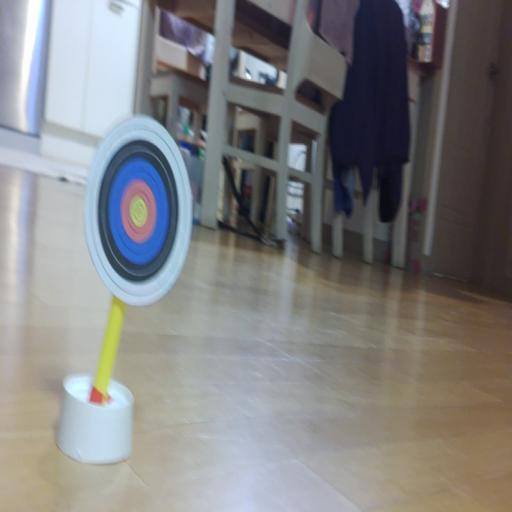target: (84, 115, 192, 305)
